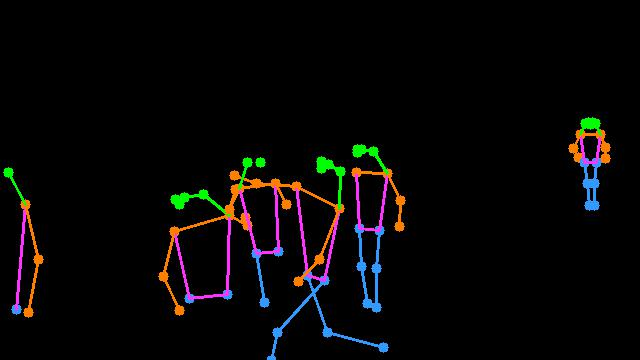normal: (347, 136, 414, 318), (553, 105, 625, 225)
